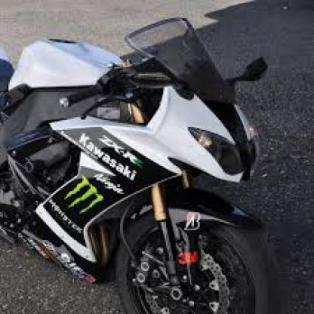Motocicleta: (0, 15, 291, 313)
